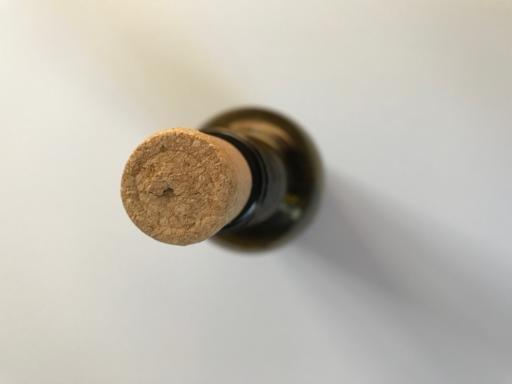botolkaca: (119, 105, 324, 254)
